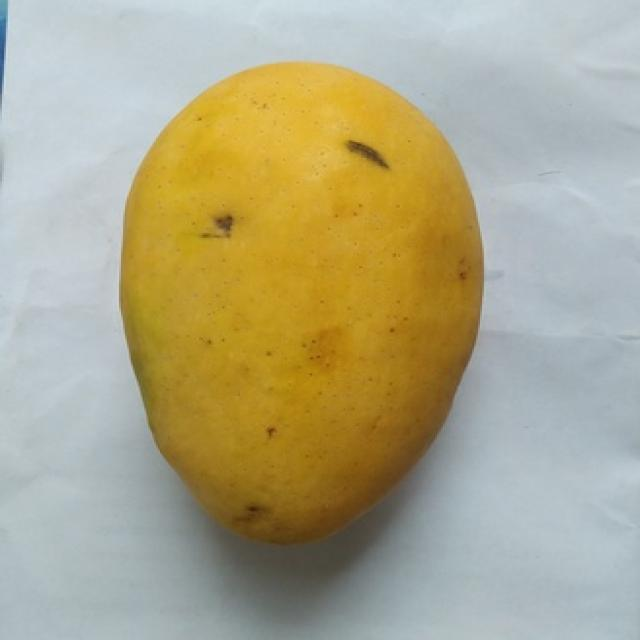Mango: (121, 62, 482, 543)
